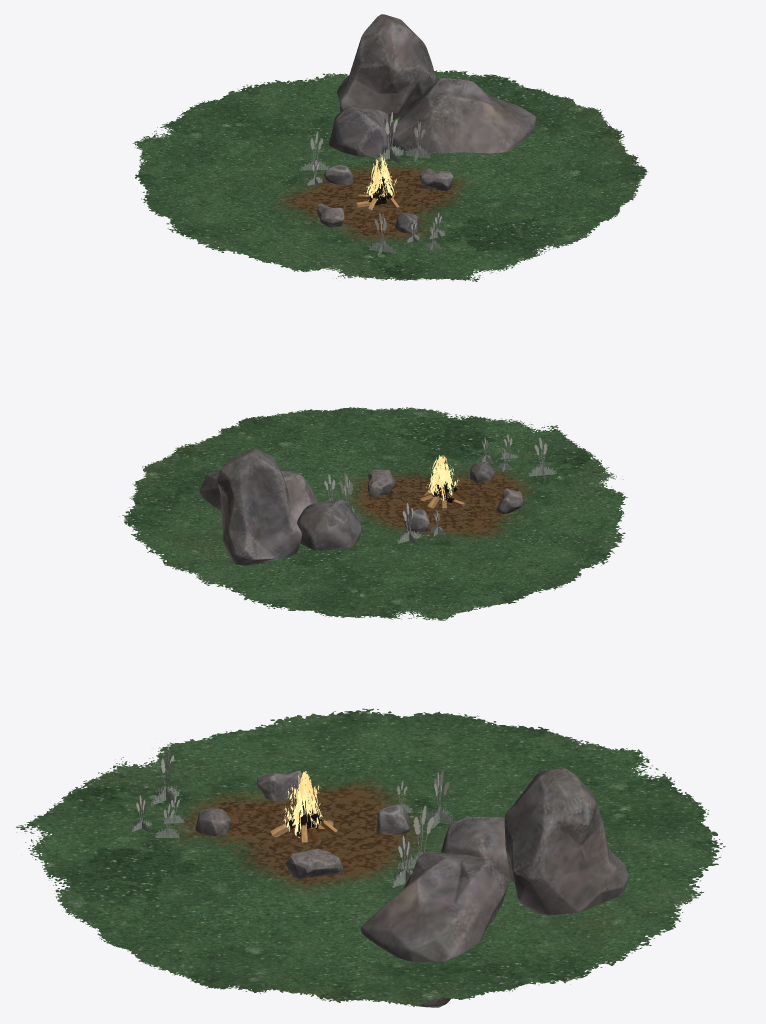
The model's file is wanderers-campfire.glb.
3 views of the same model, one above another, from view 1: azimuth 30°, elevation 25°; view 2: azimuth 150°, elevation 25°; view 3: azimuth 270°, elevation 25° (orthographic). The views are drawn at different scales.
Parts seen in each view (by area): view 1: Ground_8, Sitting Stone1.004_27, Sitting Stone1.006_33, Sitting Stone1.005_28, Flames_7, Sitting Stone1.003_13; view 2: Ground_8, Sitting Stone1.006_33, Sitting Stone1.005_28, Sitting Stone1.004_27, Flames_7, Sitting Stone1.003_13; view 3: Ground_8, Sitting Stone1.006_33, Sitting Stone1.004_27, Sitting Stone1.005_28, Sitting Stone1.003_13, Flames_7, Sitting Stone1.001_11, Sitting Stone1_10, Sitting Stone1.002_12, Plane.013_30.
Part boxes in pixels (<box>): Ground_8: <box>132,70,647,281</box>; Sitting Stone1.004_27: <box>391,78,536,153</box>; Sitting Stone1.006_33: <box>337,14,435,120</box>; Sitting Stone1.005_28: <box>329,106,391,156</box>; Flames_7: <box>364,156,397,200</box>; Sitting Stone1.003_13: <box>420,168,453,190</box>; Ground_8: <box>119,407,627,620</box>; Sitting Stone1.006_33: <box>217,448,301,565</box>; Sitting Stone1.005_28: <box>297,499,361,550</box>; Sitting Stone1.004_27: <box>199,470,318,523</box>; Flames_7: <box>426,455,459,500</box>; Sitting Stone1.003_13: <box>367,469,395,497</box>; Ground_8: <box>16,708,725,1006</box>; Sitting Stone1.006_33: <box>504,768,628,914</box>; Sitting Stone1.004_27: <box>360,851,509,1007</box>; Sitting Stone1.005_28: <box>441,816,511,880</box>; Sitting Stone1.003_13: <box>285,848,343,878</box>; Flames_7: <box>283,771,322,837</box>; Sitting Stone1.001_11: <box>256,770,305,800</box>; Sitting Stone1_10: <box>376,805,410,834</box>; Sitting Stone1.002_12: <box>195,808,231,836</box>; Plane.013_30: <box>397,805,433,868</box>.
Bounding box in the file's own units: 56.97 × 16.98 × 56.97.
Materials: 5 (5 with a texture image).
